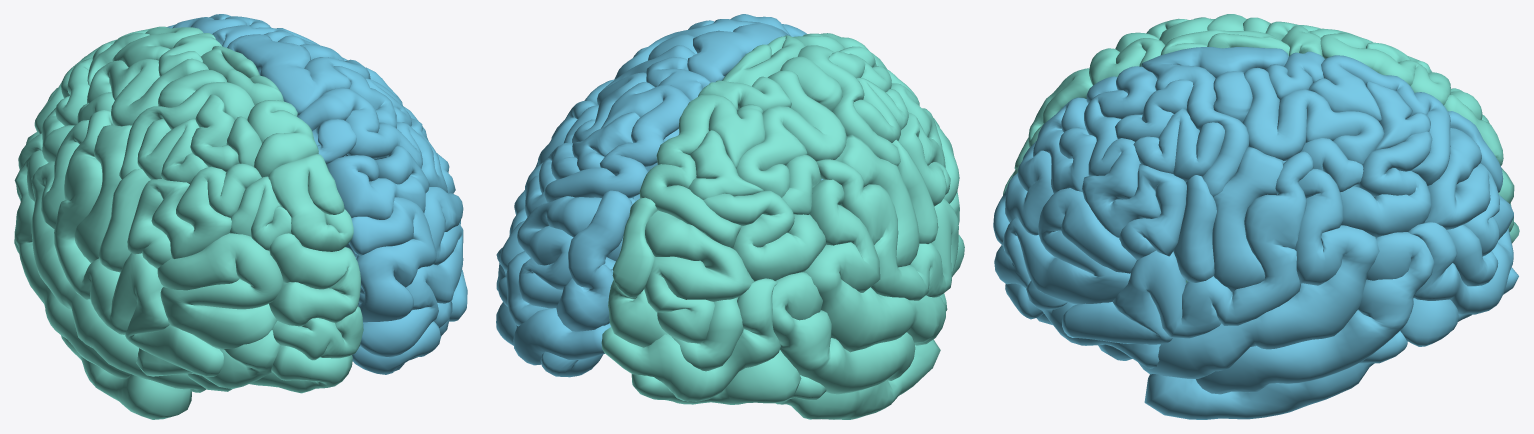
The model's file is brain_right_left-transformed.glb.
3 renders of one model, left to right at view 1: azimuth 30°, elevation 25°; view 2: azimuth 150°, elevation 25°; view 3: azimuth 270°, elevation 25°, orthographic. The views are drawn at different scales.
Visible parts, largest first — view 1: BRAIN_MAT_BrainLeft_0, BRAIN_MAT_BrainRight_0; view 2: BRAIN_MAT_BrainLeft_0, BRAIN_MAT_BrainRight_0; view 3: BRAIN_MAT_BrainRight_0, BRAIN_MAT_BrainLeft_0.
Part boxes in pixels (box(x1,y1,x2,y2)): BRAIN_MAT_BrainLeft_0: box(14, 26, 363, 419); BRAIN_MAT_BrainRight_0: box(167, 14, 467, 374); BRAIN_MAT_BrainLeft_0: box(601, 33, 964, 419); BRAIN_MAT_BrainRight_0: box(496, 14, 823, 377); BRAIN_MAT_BrainRight_0: box(993, 47, 1518, 419); BRAIN_MAT_BrainLeft_0: box(1003, 14, 1519, 283).
Bounding box in the file's own units: 14.6 × 12.24 × 18.51.
